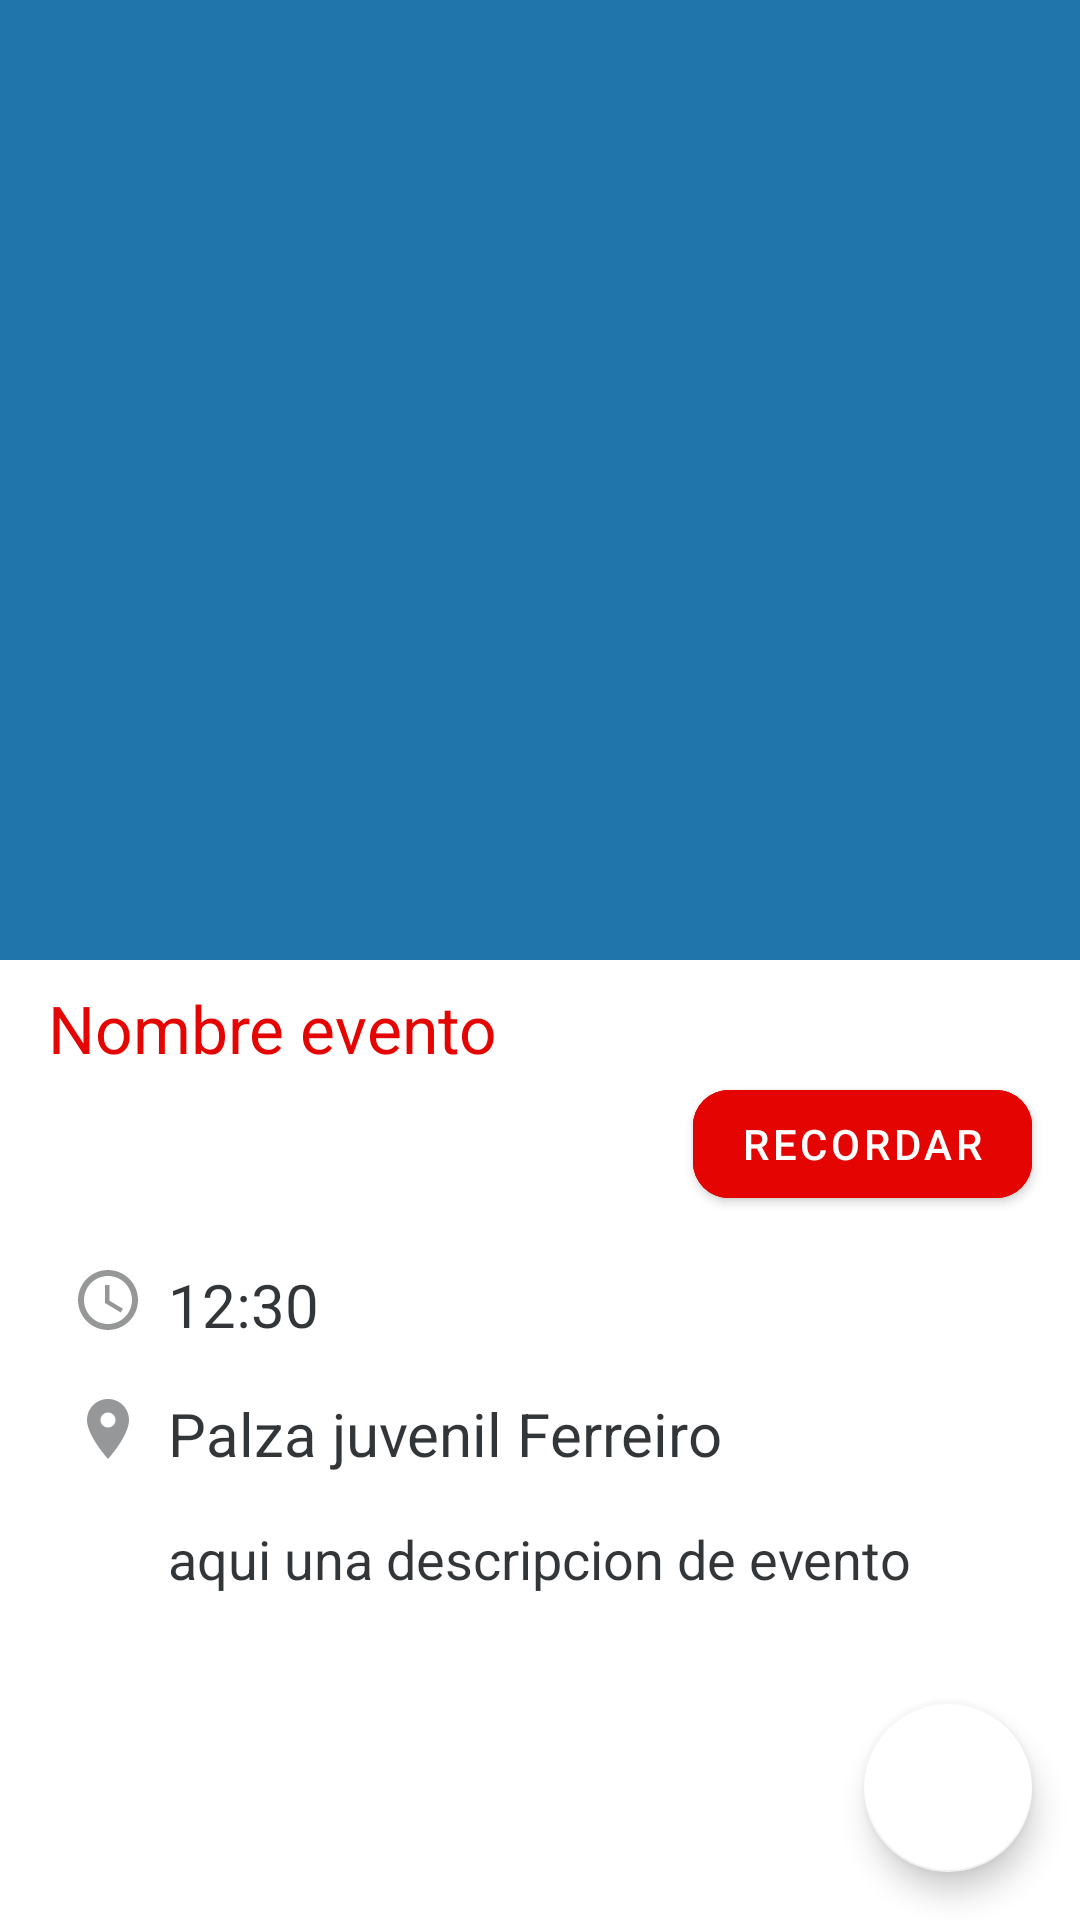

Named icons in this screenshot (1080*1920) and their centers, [x,y]:
ihora: [108,1300]
imapa claro: [108,1429]
